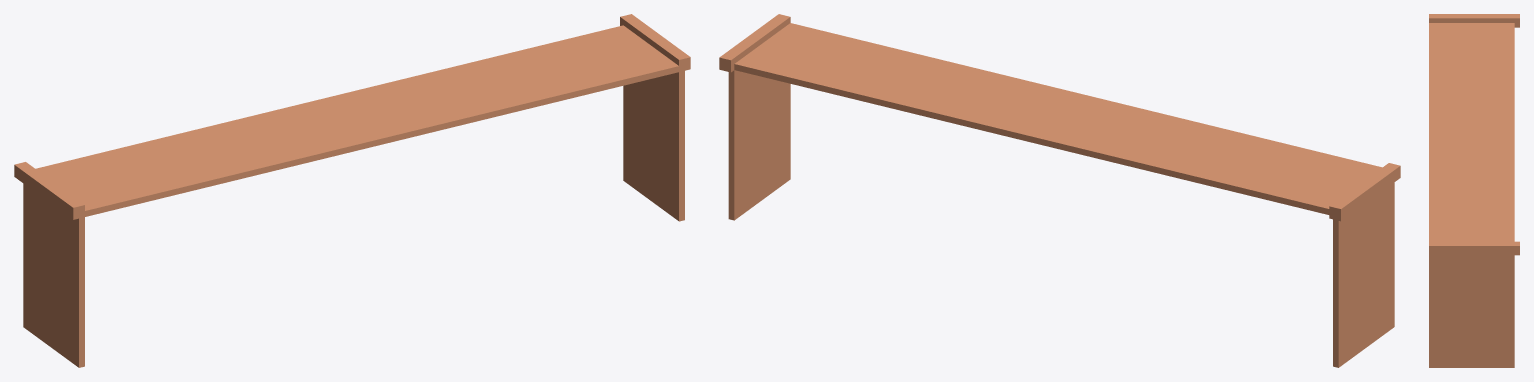
File: fence_wide.004.obj
The picture shows the model from 3 angles, left to right: view 1: azimuth 30°, elevation 25°; view 2: azimuth 150°, elevation 25°; view 3: azimuth 270°, elevation 25°; orthographic projection. The views are drawn at different scales.
Visible parts, largest first — view 1: fence_wide.004; view 2: fence_wide.004; view 3: fence_wide.004.
Boxes of the visible parts, <box> form: fence_wide.004: <box>14,14,690,367</box>; fence_wide.004: <box>719,14,1400,367</box>; fence_wide.004: <box>1429,14,1519,367</box>.
Size of the model in its own units: 1.6 by 0.4 by 0.265.
